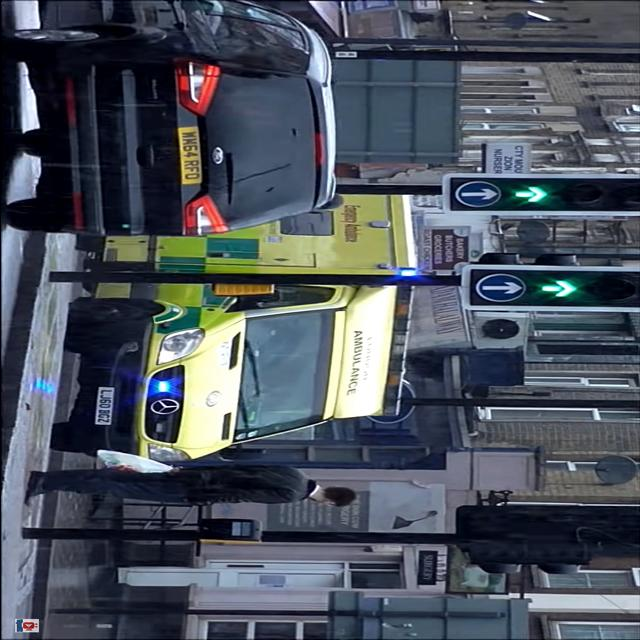emergency-vehicles: (49, 152, 426, 491)
